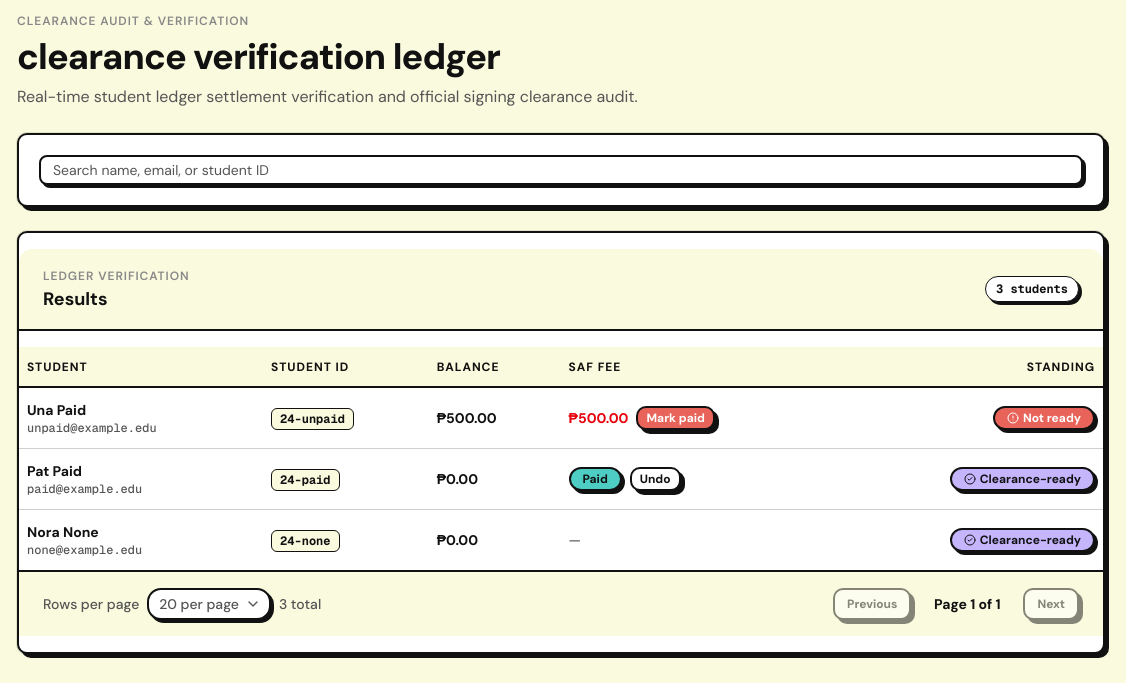
Scenario: Clearance SAF Fee column (Issue #336) › shows the API's rejection message inline
Click the button with aria-label "Mark Una Paid's SAF Fee paid". click: (676,418)
box: [636,406,715,430]
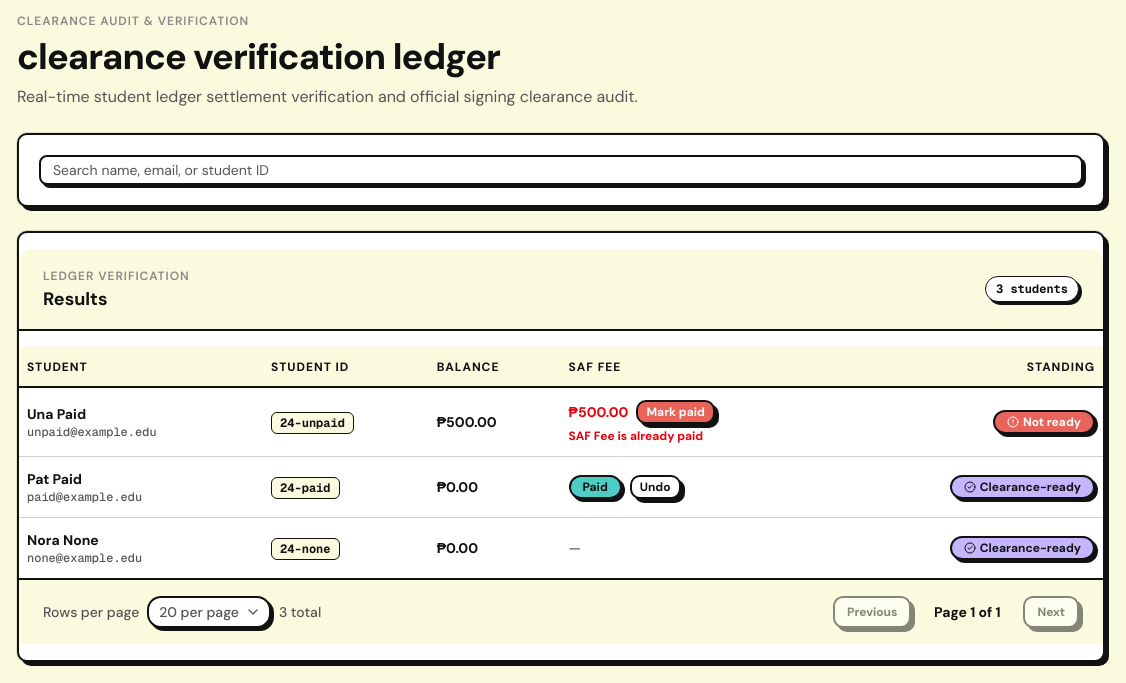
Result: the text "SAF Fee is already paid" is shown at [569,428,703,444]
